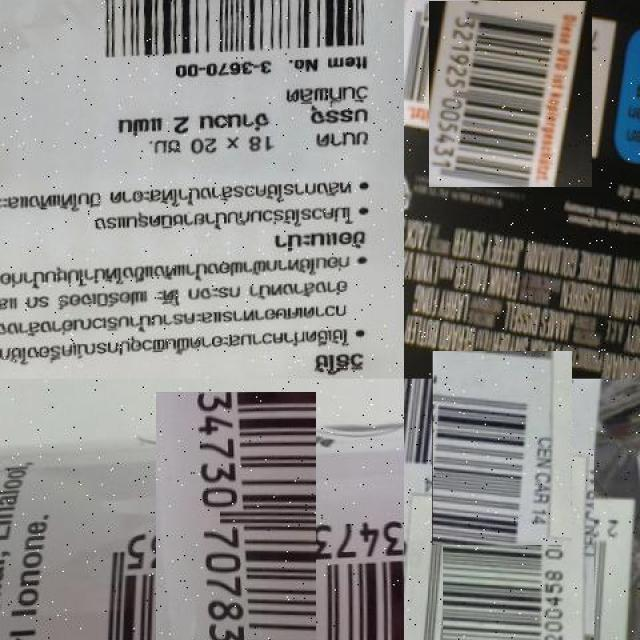Barcode: (112, 436, 360, 640), (417, 0, 604, 176), (424, 469, 614, 640), (418, 365, 585, 532), (79, 0, 394, 62)
